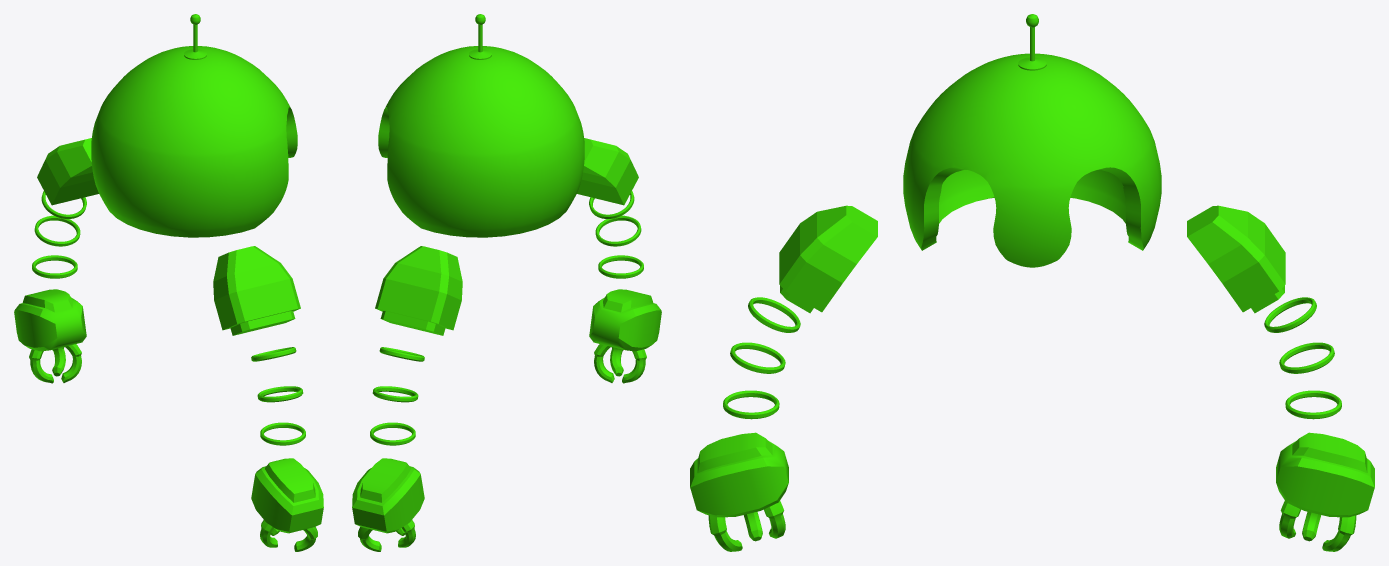
Rendered from fbx_CompanionArmsSP.fbx.
3 renders of one model, left to right at view 1: azimuth 30°, elevation 25°; view 2: azimuth 150°, elevation 25°; view 3: azimuth 270°, elevation 25°, orthographic. The views are drawn at different scales.
Parts seen in each view (by area): view 1: Cylinder.018, Cube.001, Cube.002, Cylinder.008, Cylinder.014, Cylinder.015; view 2: Cylinder.018, Cube.001, Cube.002, Cylinder.008, Cylinder.014, Cylinder.015; view 3: Cylinder.018, Cube.001, Cube.002, Cylinder.008, Cylinder.014.
Boxes of the visible parts, box(x1,y1,x2,y2) form: Cylinder.018: box(91, 46, 297, 237); Cube.001: box(37, 138, 300, 335); Cube.002: box(14, 289, 323, 533); Cylinder.008: box(32, 191, 305, 445); Cylinder.014: box(29, 344, 317, 551); Cylinder.015: box(184, 14, 206, 59); Cylinder.018: box(378, 46, 584, 237); Cube.001: box(375, 138, 638, 335); Cube.002: box(352, 289, 661, 533); Cylinder.008: box(370, 191, 643, 445); Cylinder.014: box(358, 344, 646, 551); Cylinder.015: box(469, 14, 491, 59); Cylinder.018: box(903, 53, 1161, 267); Cube.001: box(779, 205, 1285, 313); Cube.002: box(690, 432, 1374, 517); Cylinder.008: box(723, 297, 1341, 419); Cylinder.014: box(708, 501, 1356, 551).
Bounding box in the file's own units: 48.28 × 113 × 128.
